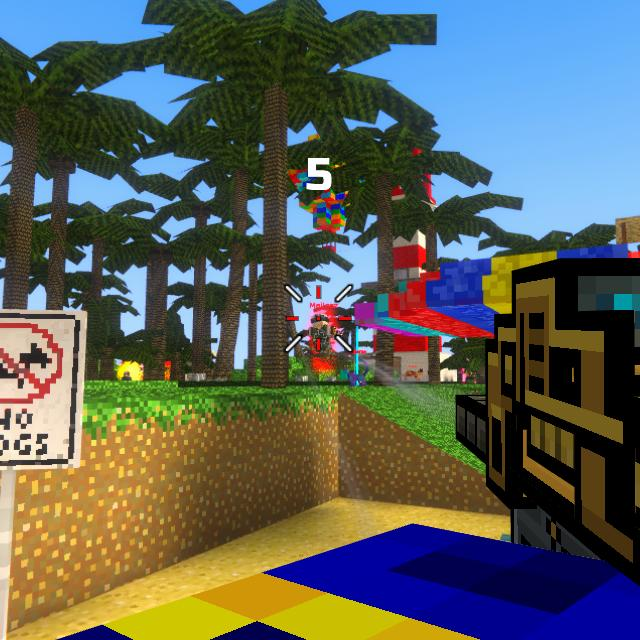Enemy: (308, 315, 338, 364)
